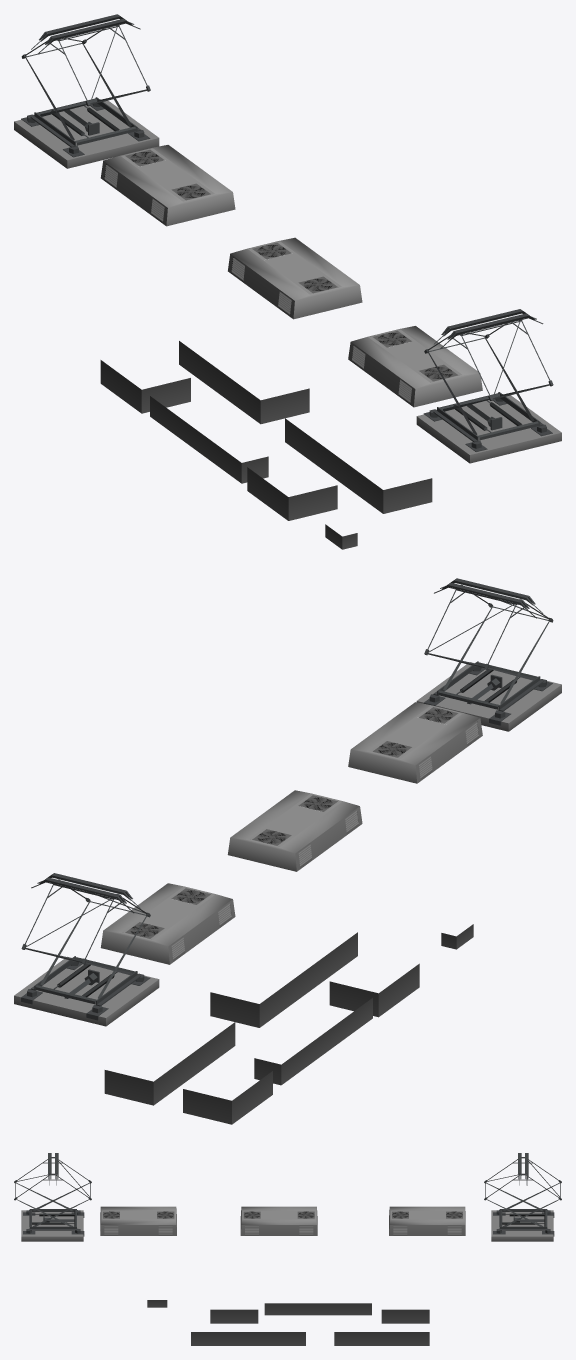
Rendered from 7001_PANTA01.glb.
3 views of the same model, one above another, from view 1: azimuth 30°, elevation 25°; view 2: azimuth 150°, elevation 25°; view 3: azimuth 270°, elevation 25° (orthographic). The views are drawn at different scales.
Visible parts, largest first — view 1: obj2; view 2: obj2; view 3: obj2.
Part boxes in pixels (left/top/right/bottom): obj2: left=14, top=14, right=561, bottom=549; obj2: left=14, top=578, right=561, bottom=1124; obj2: left=14, top=1153, right=561, bottom=1345.
Bounding box in the file's own units: 5.53 × 11.72 × 35.29.
3 materials, 3 textured.
